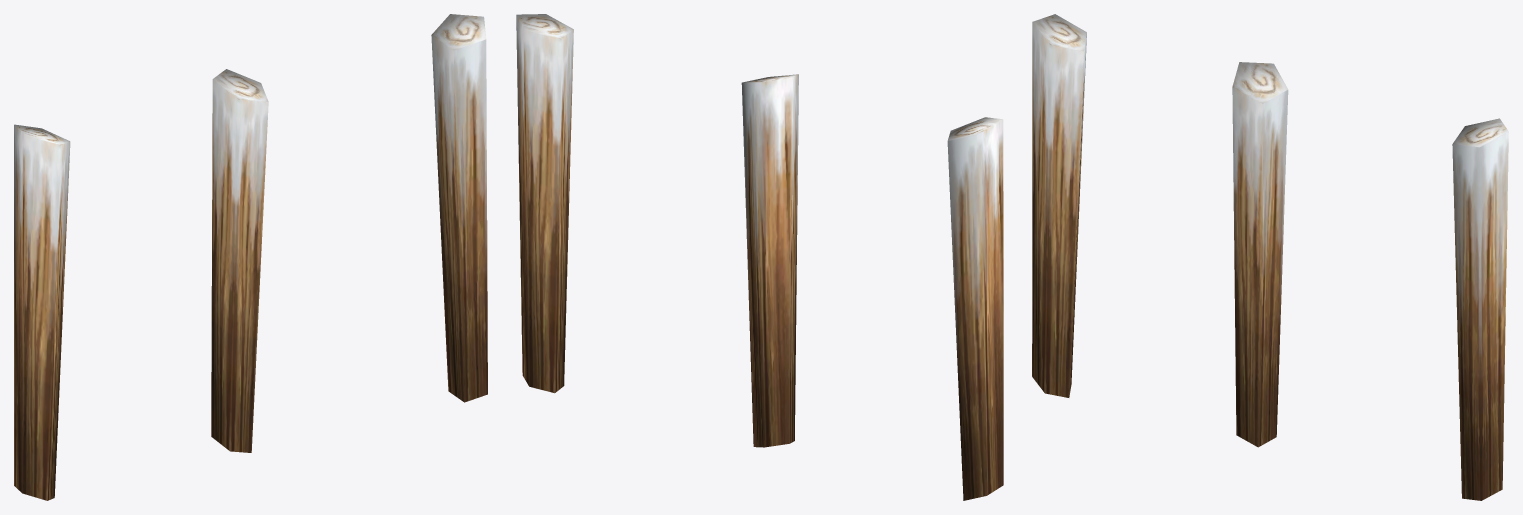
File: SM_Enclosure_26.fbx
3 renders of one model, left to right at view 1: azimuth 30°, elevation 25°; view 2: azimuth 150°, elevation 25°; view 3: azimuth 330°, elevation 25°, orthographic. The views are drawn at different scales.
Parts seen in each view (by area): view 1: SM_Enclosure_26; view 2: SM_Enclosure_26; view 3: SM_Enclosure_26.
Boxes of the visible parts, x1,y1,x2,y2 form: SM_Enclosure_26: (14,14,487,500); SM_Enclosure_26: (516,14,1003,500); SM_Enclosure_26: (1032,14,1508,500).
Bounding box in the file's own units: 7.67 × 5.81 × 0.8873.
